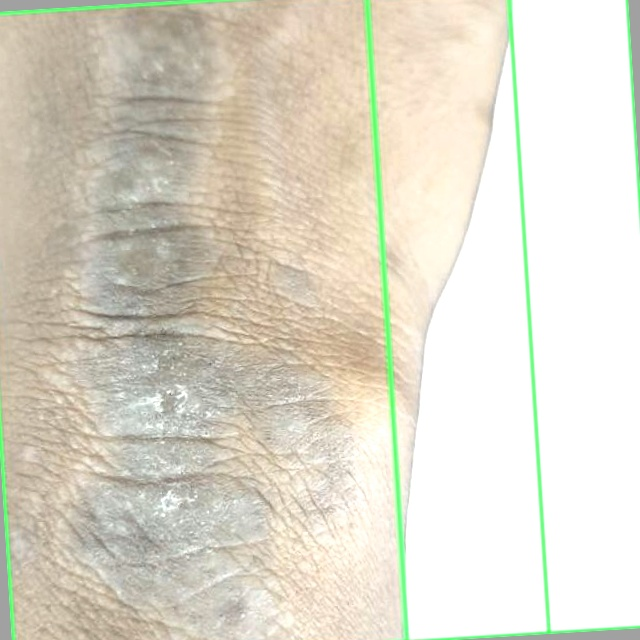Eczema: (0, 0, 548, 639), (367, 0, 639, 639)
